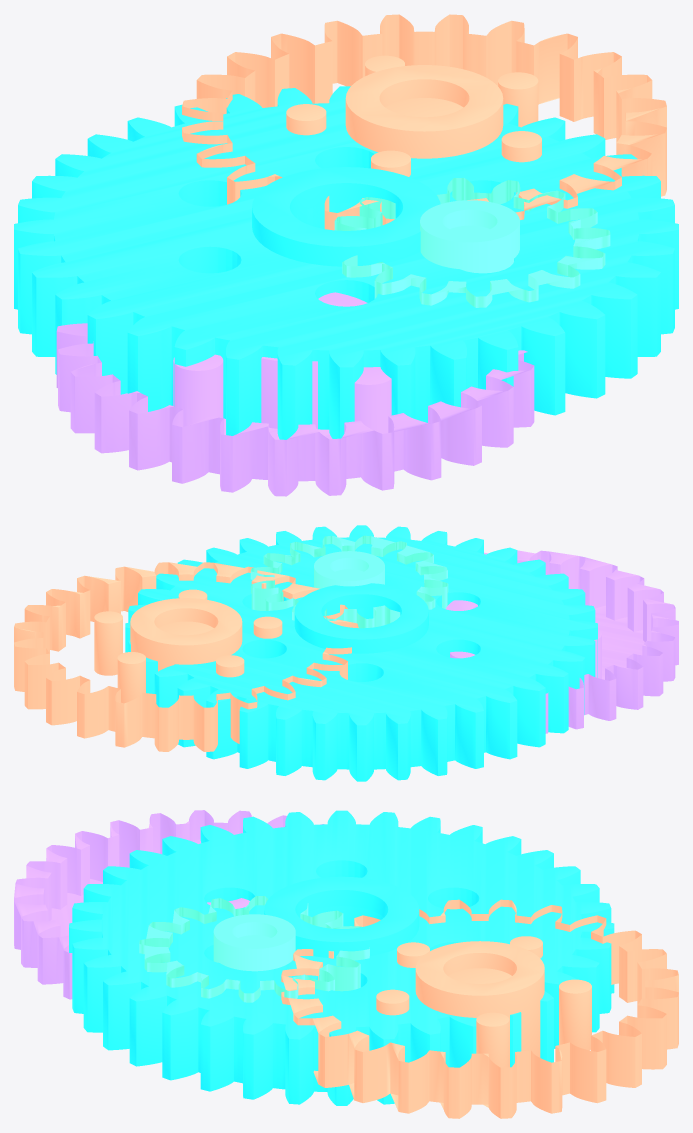
The model's file is Gears.glb.
The picture shows the model from 3 angles, top to bottom: view 1: azimuth 30°, elevation 25°; view 2: azimuth 150°, elevation 25°; view 3: azimuth 270°, elevation 25°; orthographic projection. The views are drawn at different scales.
Parts seen in each view (by area): view 1: Gear_CRM, Gear_Marketing, Gear_Automations, Gear_Analytics; view 2: Gear_CRM, Gear_Marketing, Gear_Automations, Gear_Analytics; view 3: Gear_CRM, Gear_Marketing, Gear_Automations, Gear_Analytics.
Part boxes in pixels (x1=…): Gear_CRM: x1=14, y1=86, x2=678, y2=439; Gear_Marketing: x1=182, y1=14, x2=666, y2=230; Gear_Automations: x1=56, y1=292, x2=534, y2=496; Gear_Analytics: x1=334, y1=178, x2=610, y2=307; Gear_CRM: x1=125, y1=525, x2=597, y2=781; Gear_Marketing: x1=14, y1=562, x2=358, y2=751; Gear_Automations: x1=446, y1=550, x2=678, y2=733; Gear_Analytics: x1=250, y1=535, x2=448, y2=628; Gear_CRM: x1=69, y1=810, x2=614, y2=1105; Gear_Marketing: x1=281, y1=899, x2=678, y2=1118; Gear_Automations: x1=14, y1=810, x2=323, y2=999; Gear_Analytics: x1=139, y1=896, x2=369, y2=1002.
Bounding box in the file's own units: 1.31 × 0.223 × 1.3.
